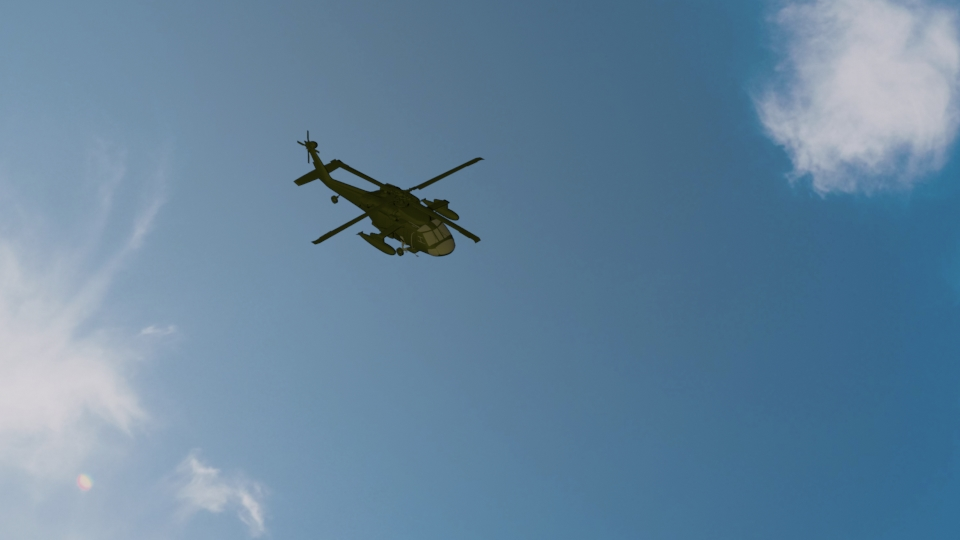heli: (287, 129, 489, 256)
